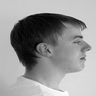ear: (31, 36, 61, 63)
